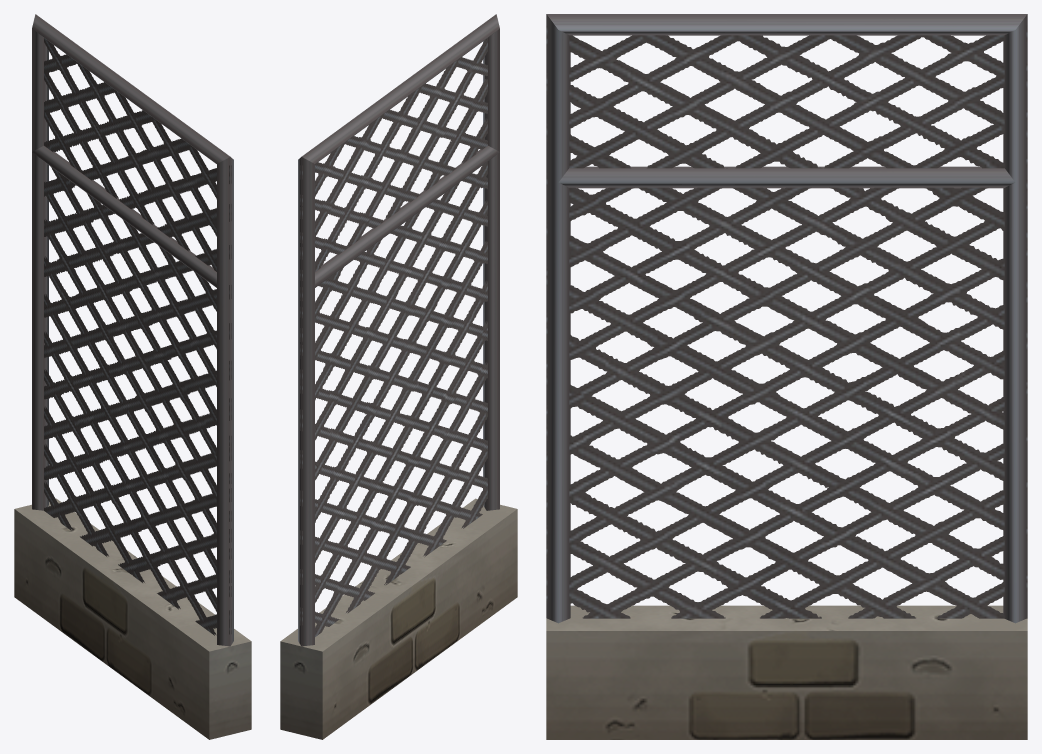
File: Item_Barbedwire_V.FBX
The picture shows the model from 3 angles, left to right: view 1: azimuth 30°, elevation 25°; view 2: azimuth 150°, elevation 25°; view 3: azimuth 270°, elevation 25°; orthographic projection. The views are drawn at different scales.
Parts seen in each view (by area): view 1: Item_Barbedwire_V; view 2: Item_Barbedwire_V; view 3: Item_Barbedwire_V.
Part boxes in pixels (left/top/right/bottom): Item_Barbedwire_V: left=14, top=14, right=251, bottom=739; Item_Barbedwire_V: left=280, top=14, right=517, bottom=739; Item_Barbedwire_V: left=546, top=14, right=1027, bottom=739.
Bounding box in the file's own units: 50 × 654 × 400.
